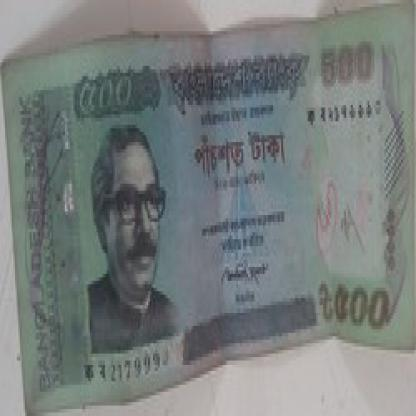500 taka: (334, 274, 406, 343), (313, 42, 383, 94), (70, 73, 141, 114)
currency: (3, 18, 416, 413)
